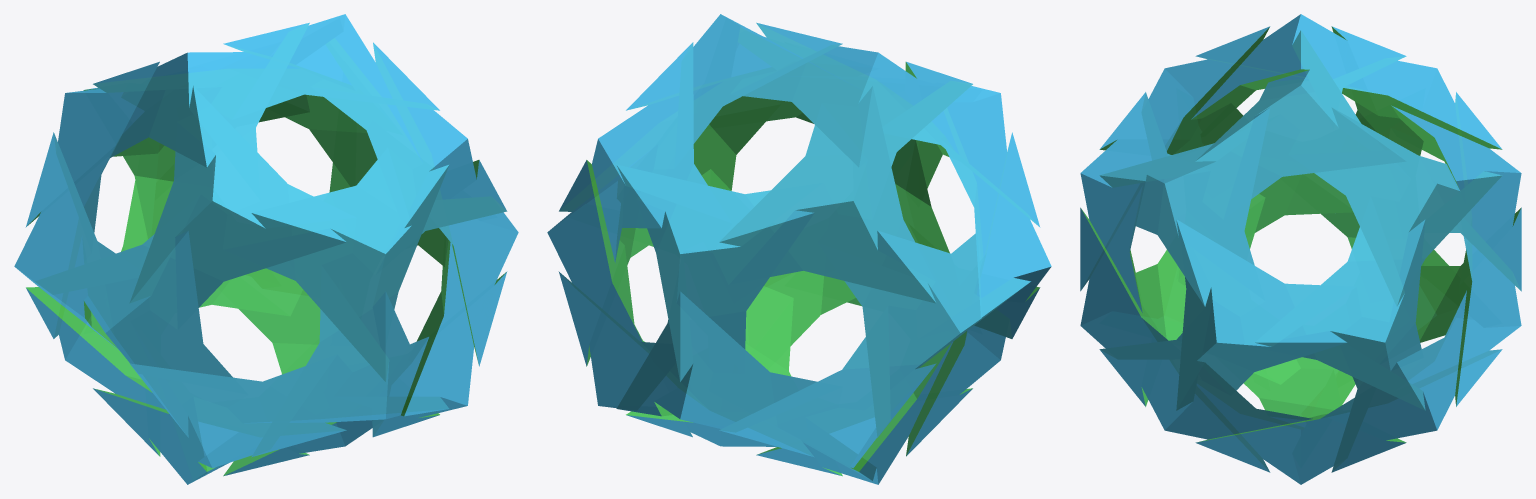
The model's file is RegularMap_D.obj.
The picture shows the model from 3 angles, left to right: view 1: azimuth 30°, elevation 25°; view 2: azimuth 150°, elevation 25°; view 3: azimuth 270°, elevation 25°; orthographic projection. The views are drawn at different scales.
Size of the model in its own units: 7.58 by 7.58 by 7.58.
